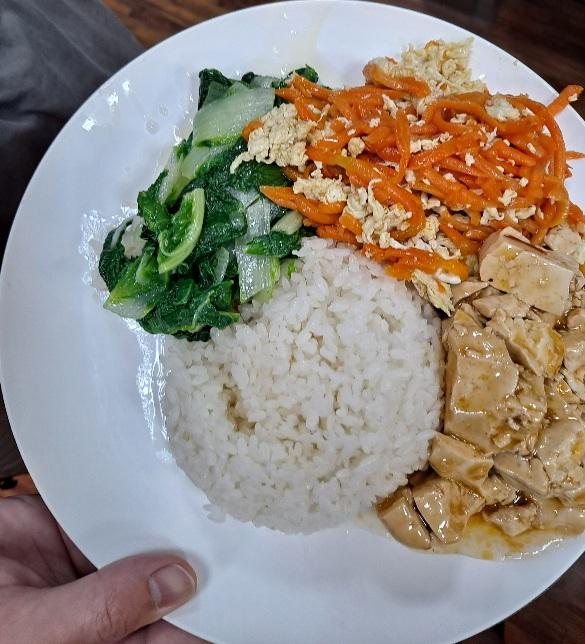big fried chicken leg: (3, 10, 585, 644)
big herbal chicken leg: (182, 243, 433, 523)
braised fish fillet: (281, 76, 580, 257), (427, 235, 585, 565), (113, 73, 319, 325)
